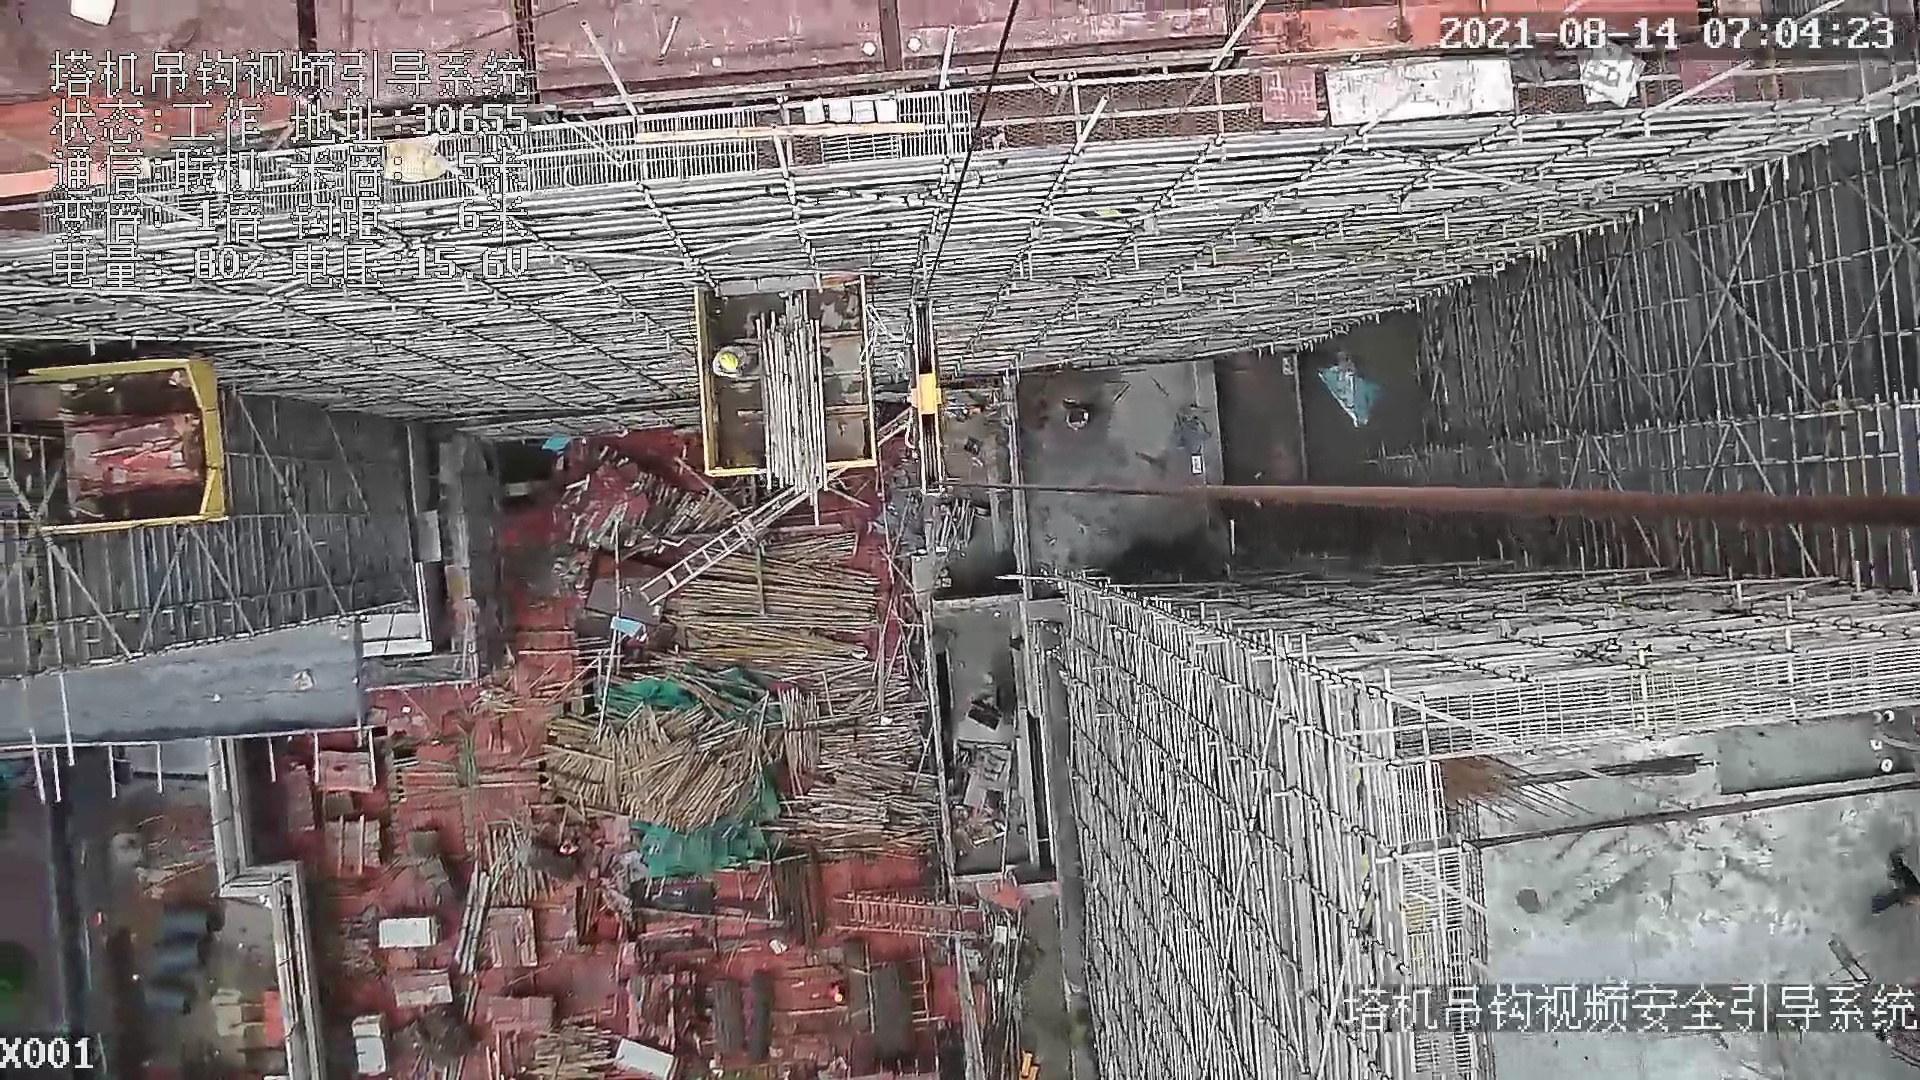hook: (887, 274, 963, 499)
person: (708, 339, 767, 389)
